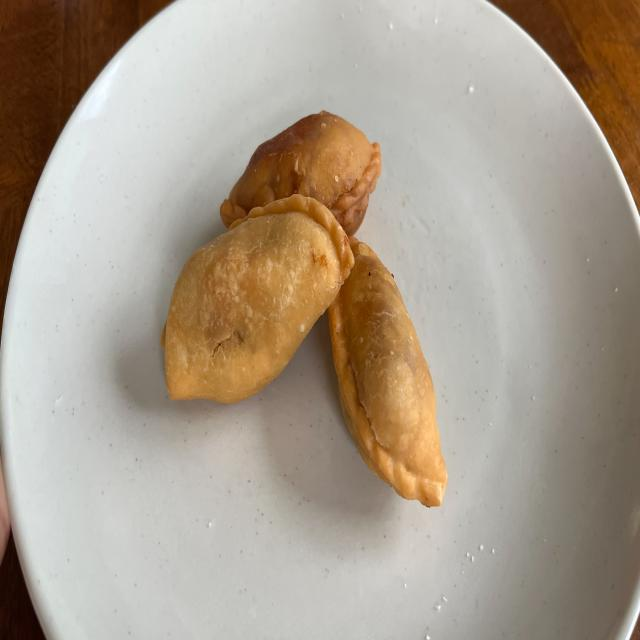karipap: (161, 193, 354, 402), (329, 238, 448, 507), (220, 111, 381, 236)
